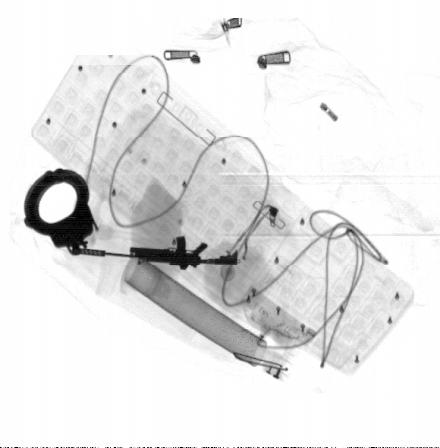Gun: (71, 235, 239, 270)
HandCuffs: (22, 167, 101, 255)
